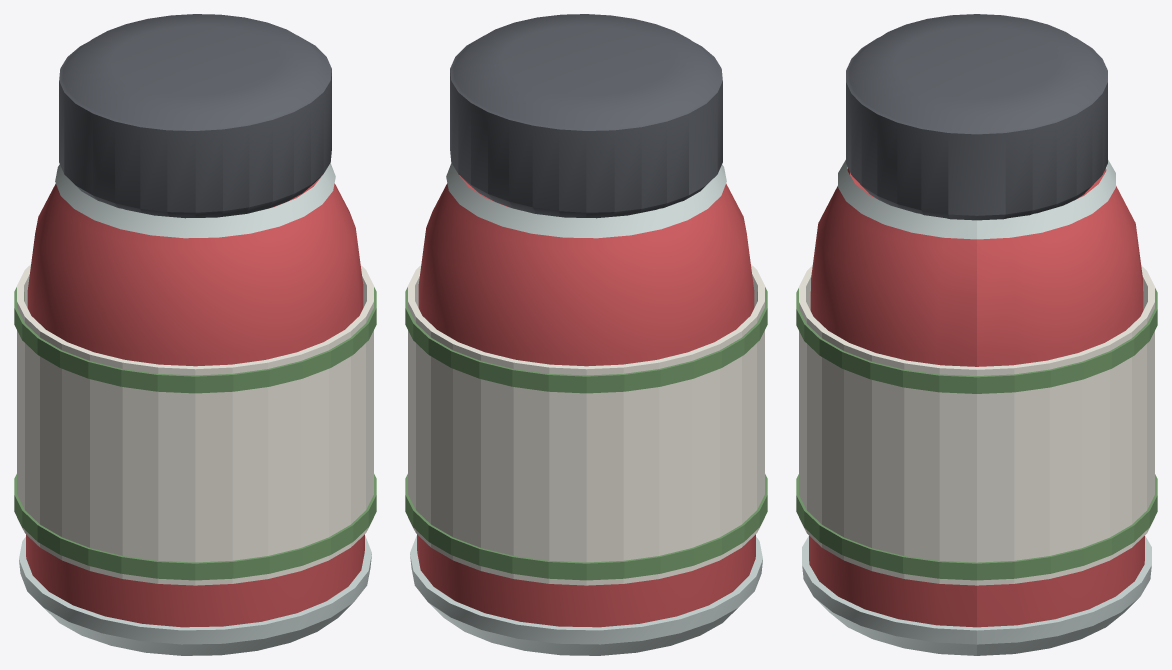
The model's file is fresh-produce-and-groceries-pasta-sauce-jar-7ee1b5d2__24435.glb.
The picture shows the model from 3 angles, left to right: view 1: azimuth 30°, elevation 25°; view 2: azimuth 150°, elevation 25°; view 3: azimuth 270°, elevation 25°; orthographic projection.
Visible parts, largest first — view 1: pasta-sauce-jar; view 2: pasta-sauce-jar; view 3: pasta-sauce-jar.
Boxes of the visible parts, x1,y1,x2,y2 form: pasta-sauce-jar: [14, 14, 376, 655]; pasta-sauce-jar: [405, 14, 767, 655]; pasta-sauce-jar: [796, 14, 1157, 655].
Size of the model in its own units: 0.0786 by 0.126 by 0.0782.
